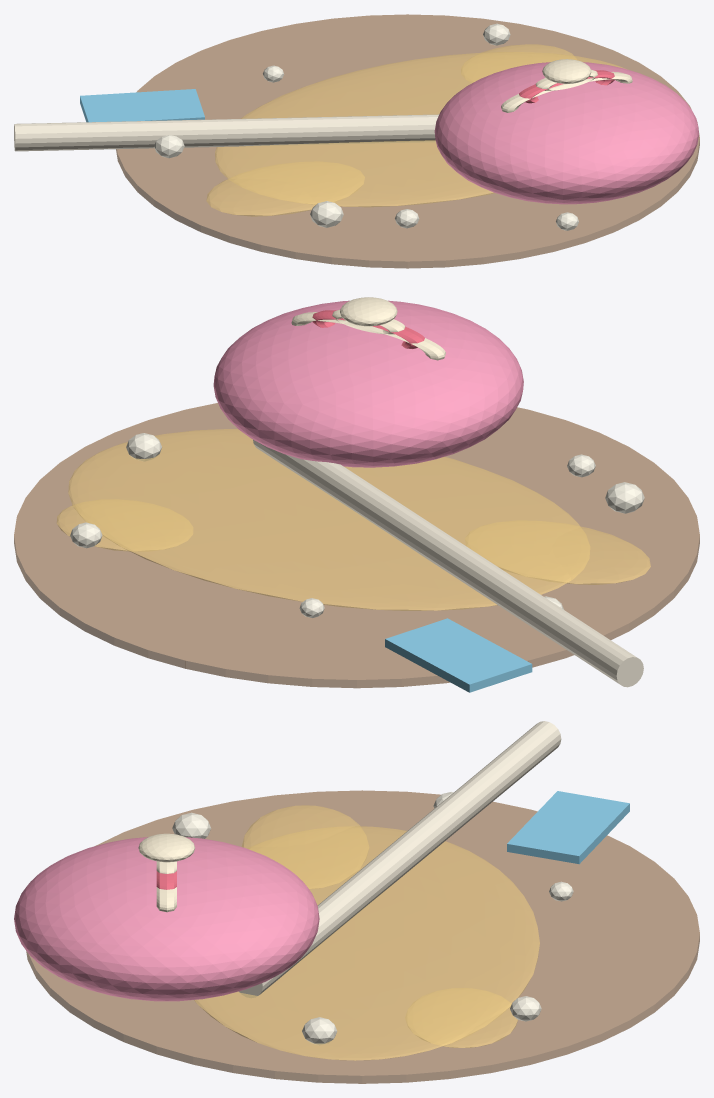
Rendered from sugar_source_lollipop_v1.glb.
The picture shows the model from 3 angles, top to bottom: view 1: azimuth 30°, elevation 25°; view 2: azimuth 150°, elevation 25°; view 3: azimuth 270°, elevation 25°; orthographic projection. The views are drawn at different scales.
Parts seen in each view (by area): view 1: sticky_puddle_shadow, round_lollipop_candy_disc, main_sticky_sugar_puddle, fallen_lollipop_stick, side_sugar_drip_left, blue_wrapper_scrap, side_sugar_drip_right, candy_center_dot, sugar_crumb_0, raised_candy_swirl_ring_0, raised_candy_swirl_ring_1, sugar_crumb_4 (+1 smaller); view 2: sticky_puddle_shadow, main_sticky_sugar_puddle, round_lollipop_candy_disc, fallen_lollipop_stick, side_sugar_drip_left, blue_wrapper_scrap, side_sugar_drip_right, candy_center_dot, sugar_crumb_0, raised_candy_swirl_ring_0, sugar_crumb_2, raised_candy_swirl_ring_1 (+1 smaller); view 3: sticky_puddle_shadow, main_sticky_sugar_puddle, round_lollipop_candy_disc, fallen_lollipop_stick, side_sugar_drip_left, blue_wrapper_scrap, side_sugar_drip_right, candy_center_dot, sugar_crumb_0, sugar_crumb_2, sugar_crumb_3.
Boxes of the visible parts, x1,y1,x2,y2 form: sticky_puddle_shadow: [116, 14, 699, 268]; round_lollipop_candy_disc: [434, 62, 698, 204]; main_sticky_sugar_puddle: [215, 52, 626, 207]; fallen_lollipop_stick: [14, 114, 439, 151]; side_sugar_drip_left: [206, 161, 364, 216]; blue_wrapper_scrap: [80, 89, 204, 122]; side_sugar_drip_right: [461, 44, 576, 82]; candy_center_dot: [542, 59, 591, 83]; sugar_crumb_0: [310, 201, 343, 227]; raised_candy_swirl_ring_0: [501, 71, 632, 112]; raised_candy_swirl_ring_1: [519, 70, 614, 103]; sugar_crumb_4: [154, 135, 184, 158]; sticky_puddle_shadow: [14, 403, 699, 688]; main_sticky_sugar_puddle: [68, 429, 589, 610]; round_lollipop_candy_disc: [213, 300, 523, 467]; fallen_lollipop_stick: [253, 439, 643, 687]; side_sugar_drip_left: [465, 520, 650, 584]; blue_wrapper_scrap: [385, 618, 532, 692]; side_sugar_drip_right: [56, 499, 192, 551]; candy_center_dot: [340, 297, 397, 326]; sugar_crumb_0: [605, 482, 644, 513]; raised_candy_swirl_ring_0: [291, 312, 445, 360]; sugar_crumb_2: [126, 433, 161, 461]; raised_candy_swirl_ring_1: [312, 310, 424, 348]; sticky_puddle_shadow: [26, 790, 699, 1083]; main_sticky_sugar_puddle: [194, 826, 539, 1060]; round_lollipop_candy_disc: [14, 837, 319, 1001]; fallen_lollipop_stick: [239, 721, 561, 997]; side_sugar_drip_left: [241, 805, 368, 888]; blue_wrapper_scrap: [507, 791, 629, 864]; side_sugar_drip_right: [405, 988, 517, 1047]; candy_center_dot: [138, 833, 194, 862]; sugar_crumb_0: [172, 812, 211, 838]; sugar_crumb_2: [302, 1017, 337, 1045]; sugar_crumb_3: [510, 996, 541, 1021].
Bounding box in the file's own units: 2.14 × 0.445 × 1.93.
